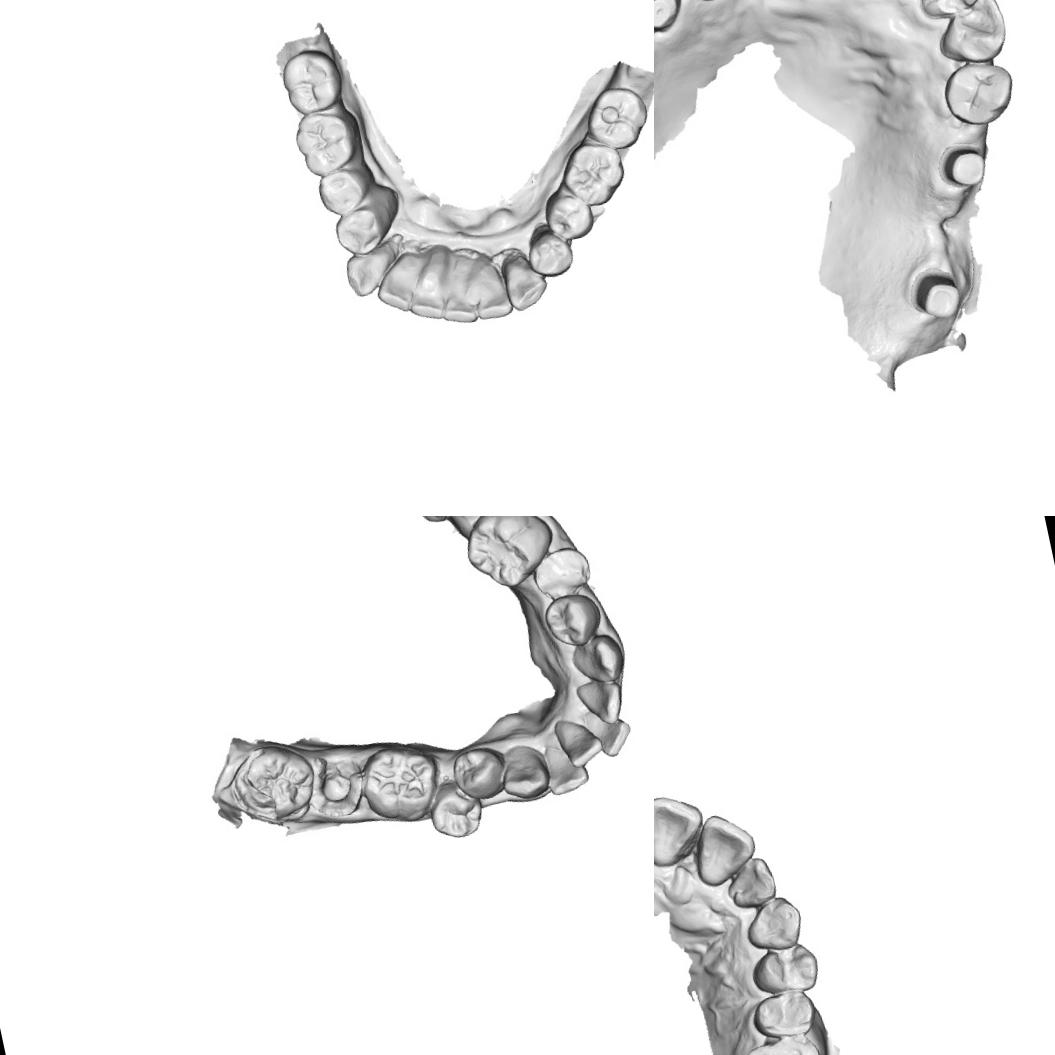abutment: (901, 262, 965, 328), (936, 140, 992, 195)
canine: (930, 0, 1014, 71), (740, 893, 807, 957), (494, 738, 554, 804), (567, 629, 629, 690), (499, 255, 552, 314), (341, 247, 398, 300)
incisor: (685, 808, 763, 890), (654, 787, 711, 870), (370, 252, 425, 316), (721, 854, 780, 912), (552, 712, 606, 773), (401, 262, 452, 325), (582, 704, 636, 762), (574, 675, 629, 731), (540, 738, 592, 797), (434, 268, 482, 329), (466, 262, 514, 322), (911, 0, 988, 16)
molar: (225, 737, 324, 834), (354, 736, 447, 832), (457, 516, 562, 597), (554, 134, 632, 214), (579, 79, 654, 157), (290, 104, 362, 181), (276, 43, 348, 119), (739, 1029, 828, 1055)
premolar: (936, 54, 1023, 132), (746, 936, 823, 998), (527, 541, 596, 606), (747, 985, 821, 1045), (539, 587, 606, 652), (424, 779, 488, 844), (447, 742, 511, 806), (540, 186, 599, 246), (330, 202, 390, 260), (314, 164, 374, 220), (522, 227, 576, 282), (654, 0, 687, 40)
